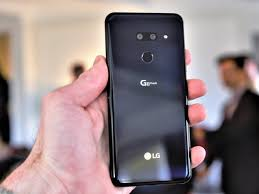lg: (101, 10, 195, 184)
